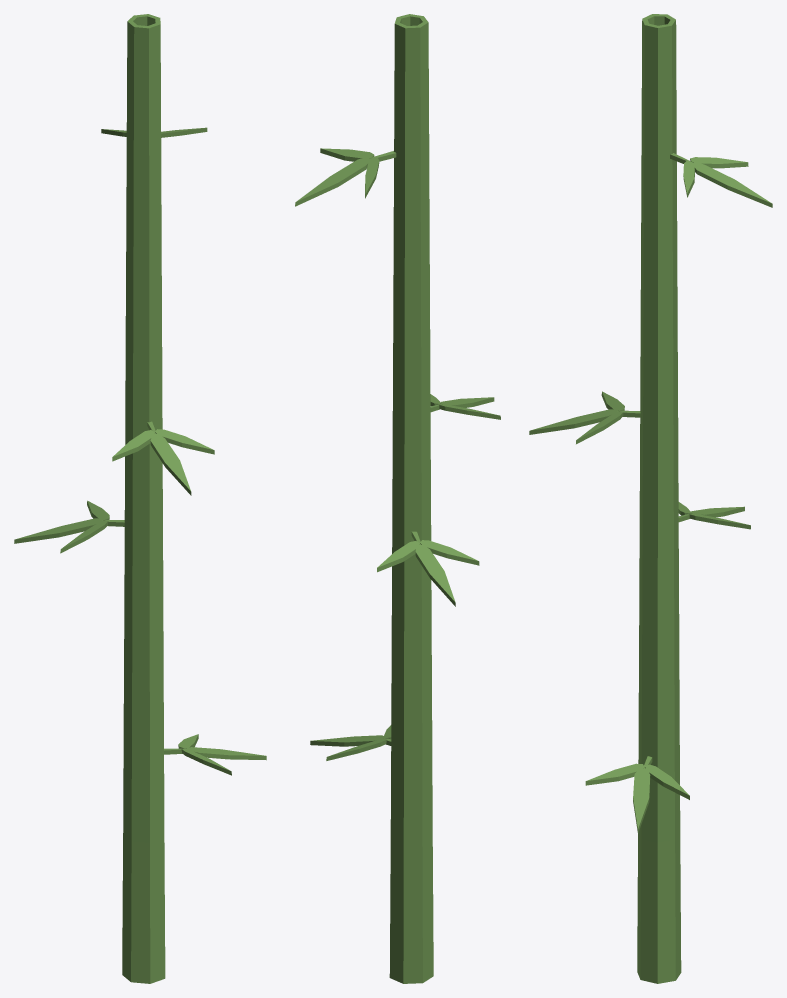
File: Bamboo_3.glb
The picture shows the model from 3 angles, left to right: view 1: azimuth 30°, elevation 25°; view 2: azimuth 150°, elevation 25°; view 3: azimuth 270°, elevation 25°; orthographic projection.
Parts seen in each view (by area): view 1: Bamboo_3_Cylinder.017; view 2: Bamboo_3_Cylinder.017; view 3: Bamboo_3_Cylinder.017.
Part boxes in pixels (bbox=[...]): Bamboo_3_Cylinder.017: bbox=[14, 14, 266, 983]; Bamboo_3_Cylinder.017: bbox=[295, 14, 500, 983]; Bamboo_3_Cylinder.017: bbox=[529, 14, 772, 983].
Bounding box in the file's own units: 0.3381 × 1.55 × 0.358.
